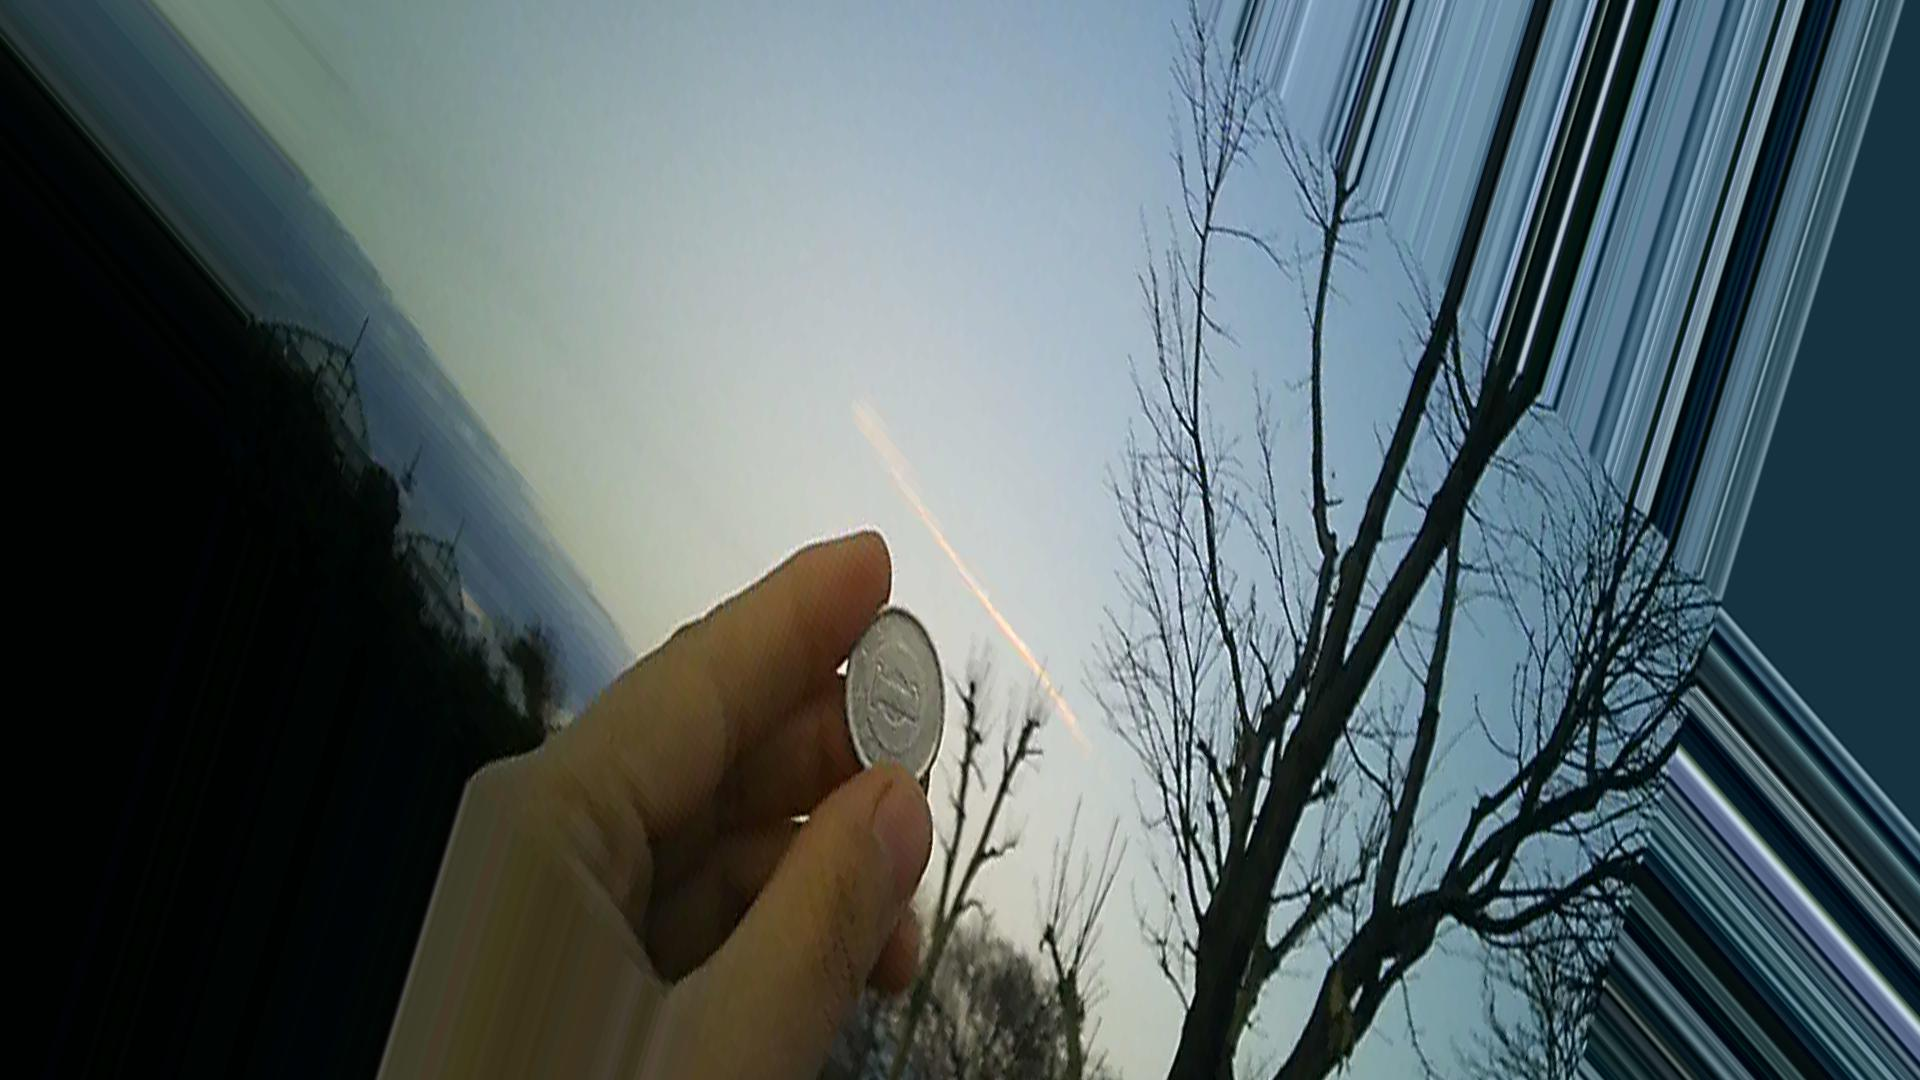1 Yen: (843, 603, 934, 789)
